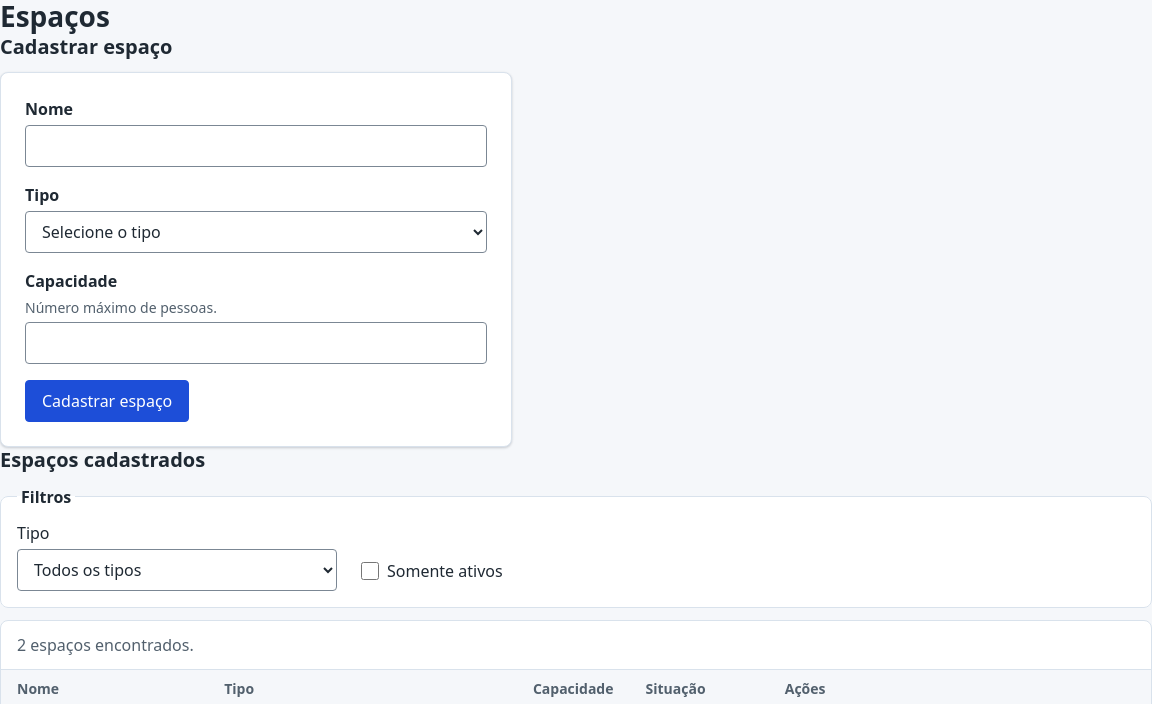
Test case: PaginaEspacos › nome repetido aparece no campo Nome
The width and height of the screenshot is (1152, 704).
In the field labelled "Nome": (256, 146) [25,125,487,167], type "Ginásio A"
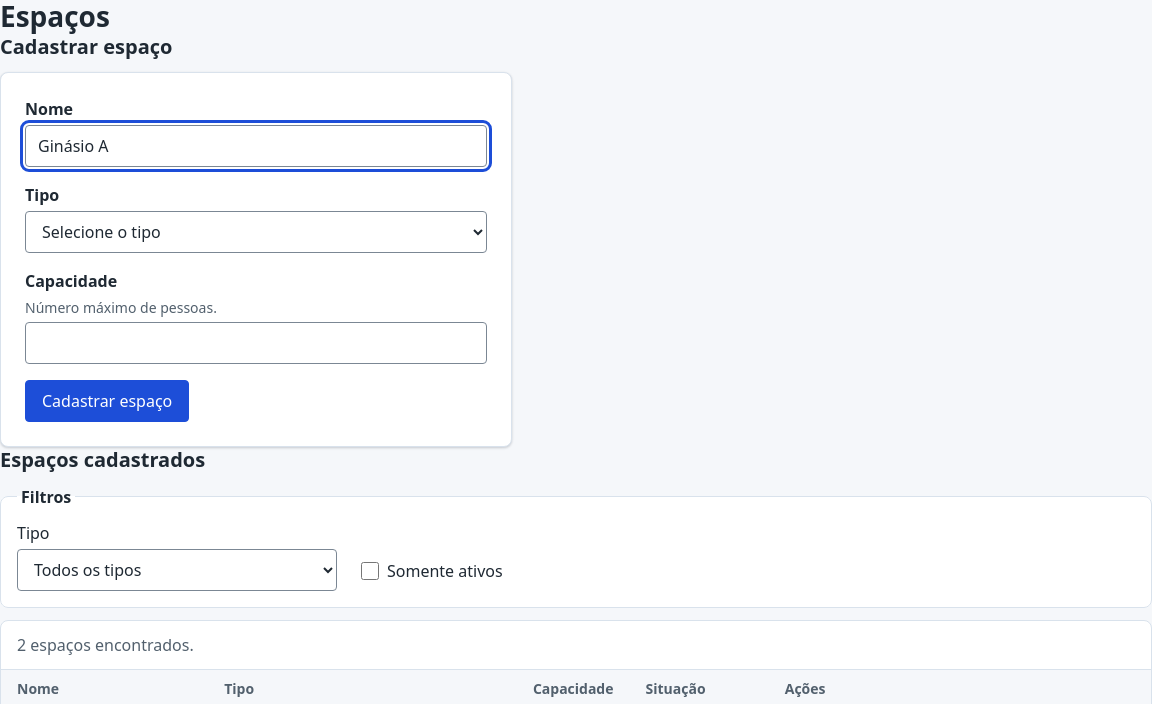
Select "Ginásio" in the 1st dropdown labelled "Tipo": (256, 232) [25,211,487,253]
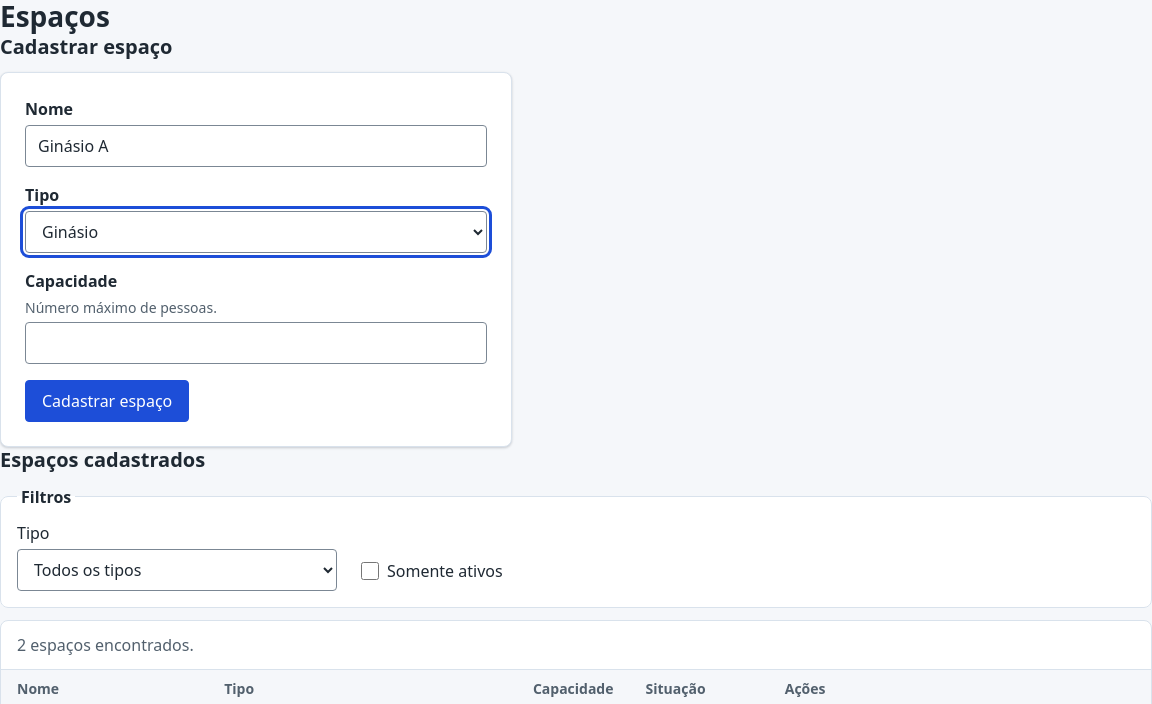
In the number field labelled "Capacidade": (256, 343) [25,322,487,364], type "10"
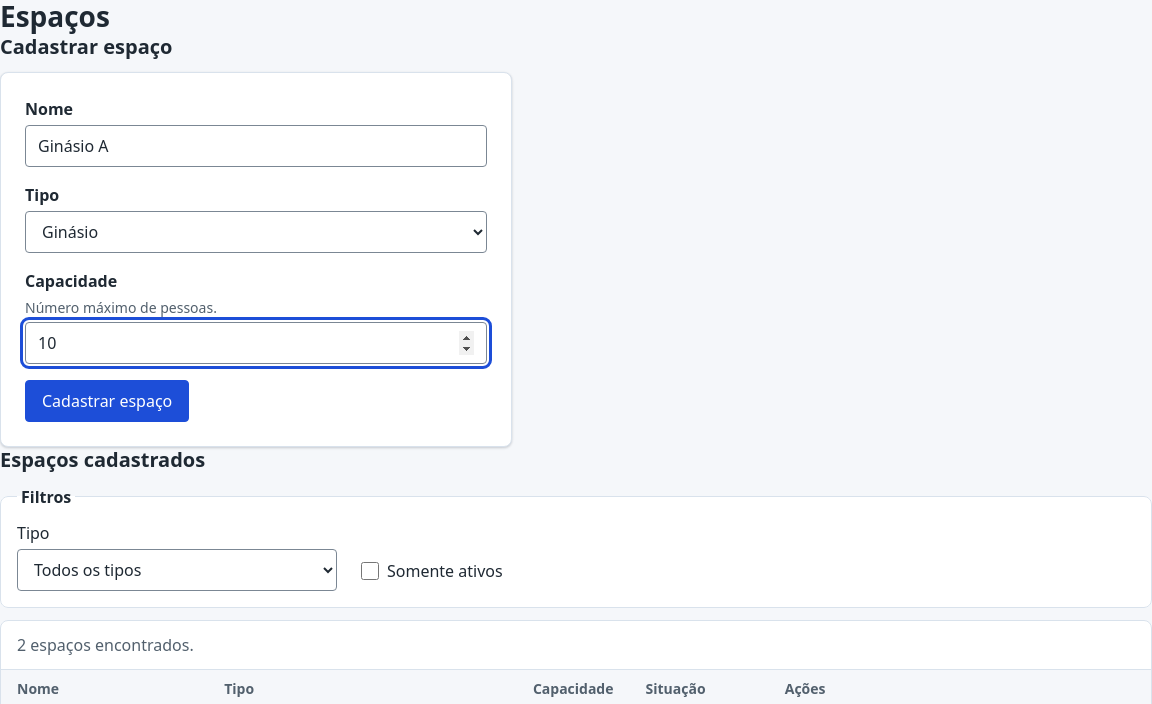
Click the button "Cadastrar espaço": click(107, 401) [25,380,189,422]
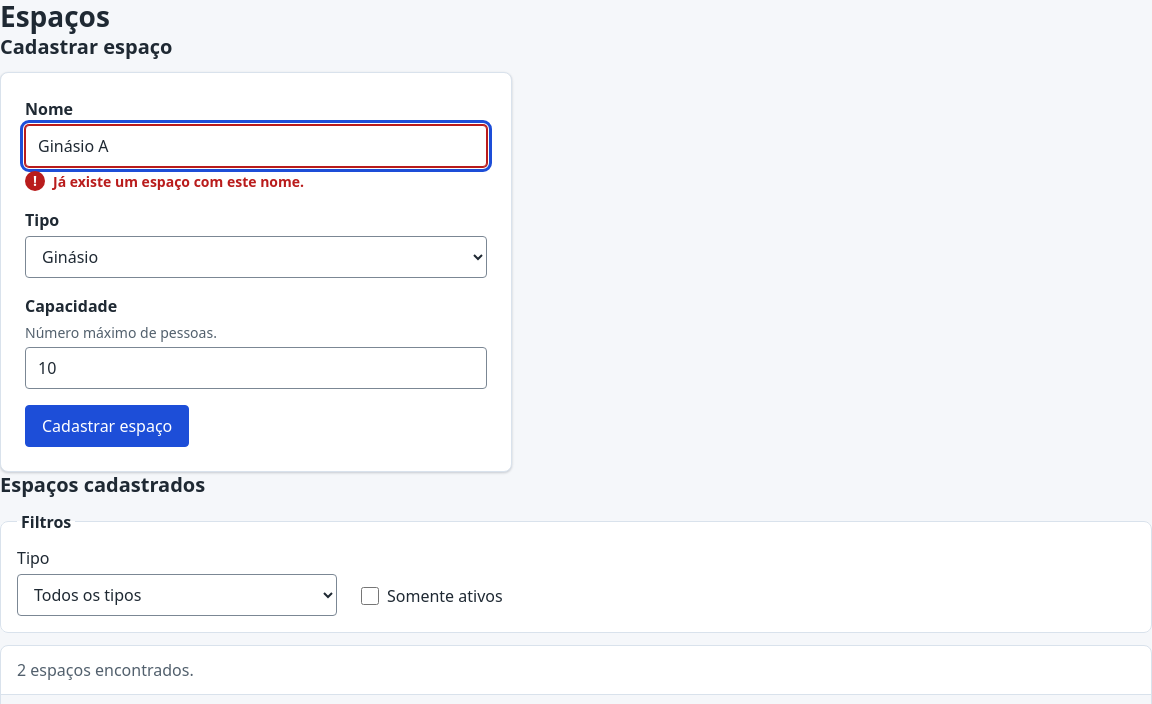
Check: the text "Já existe um espaço com este nome." is shown, box [53,172,304,191]
